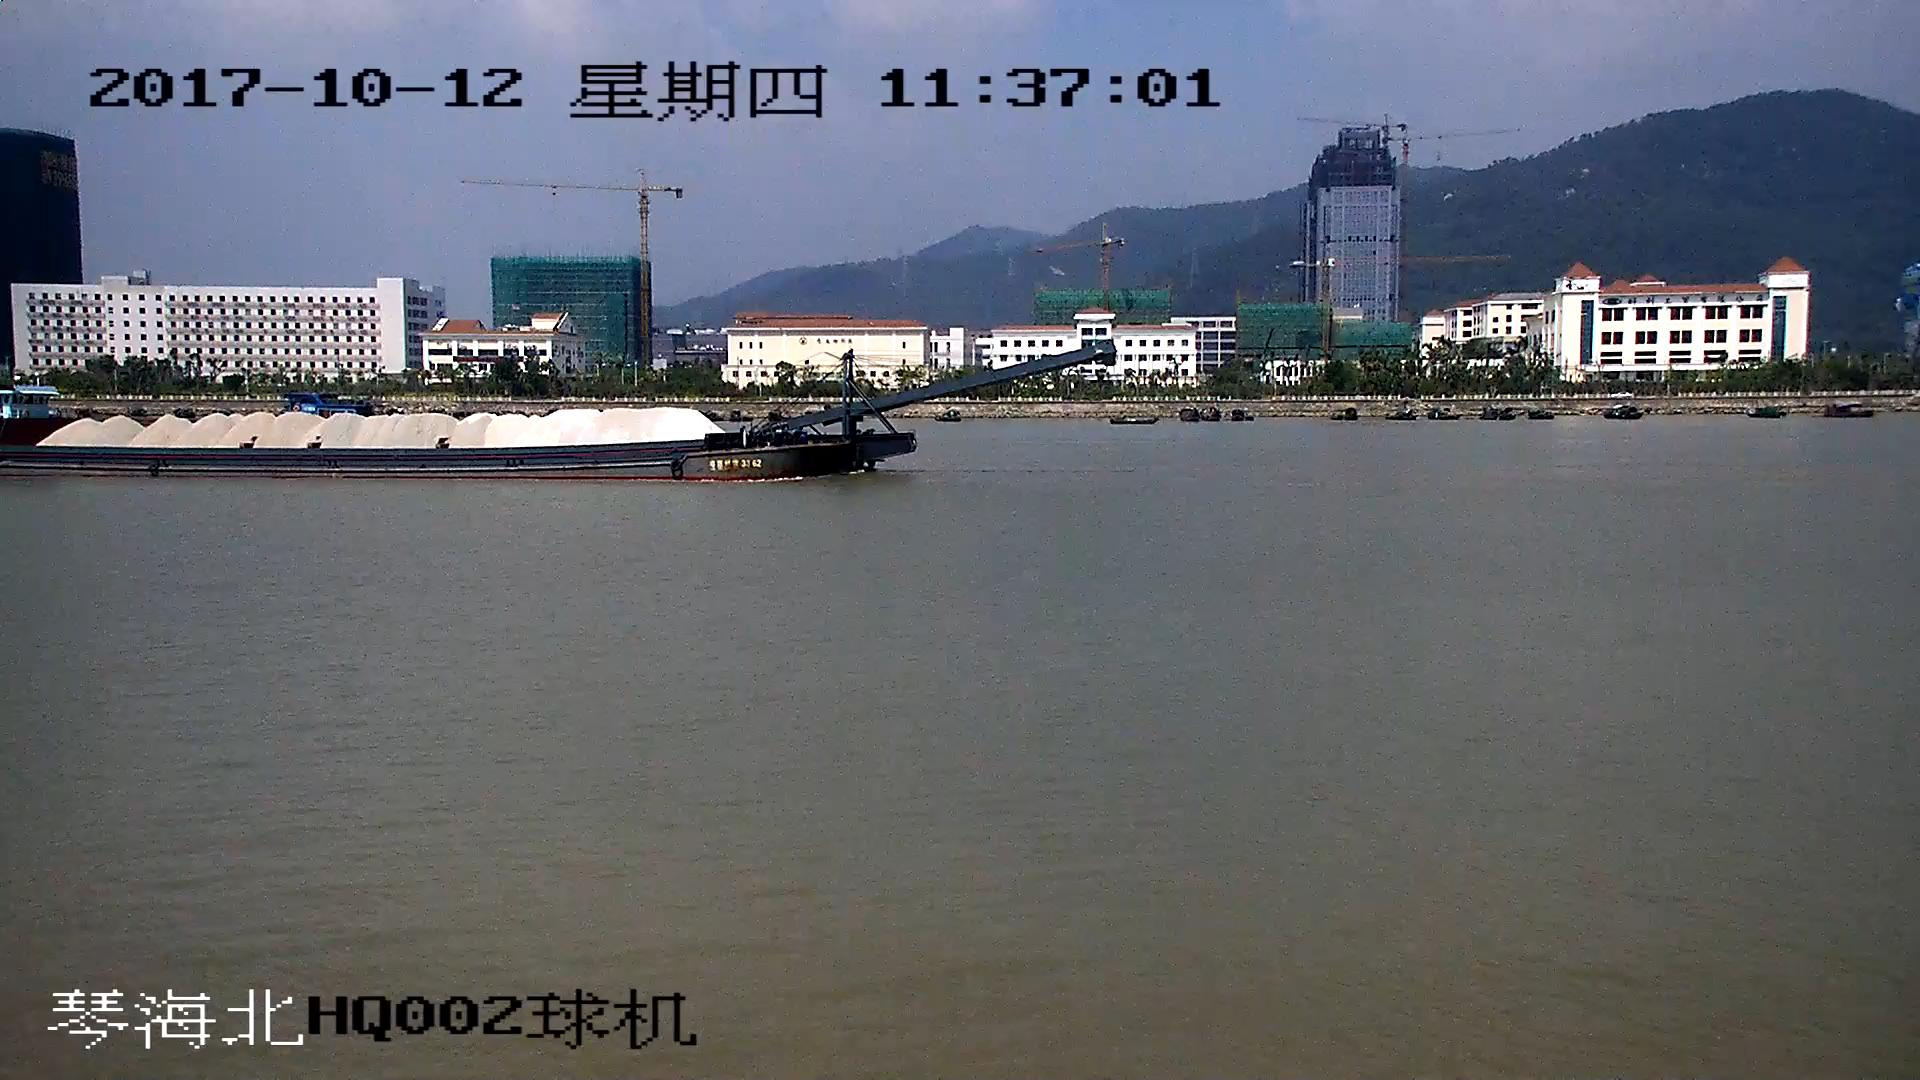ore carrier: (1, 348, 1094, 475)
